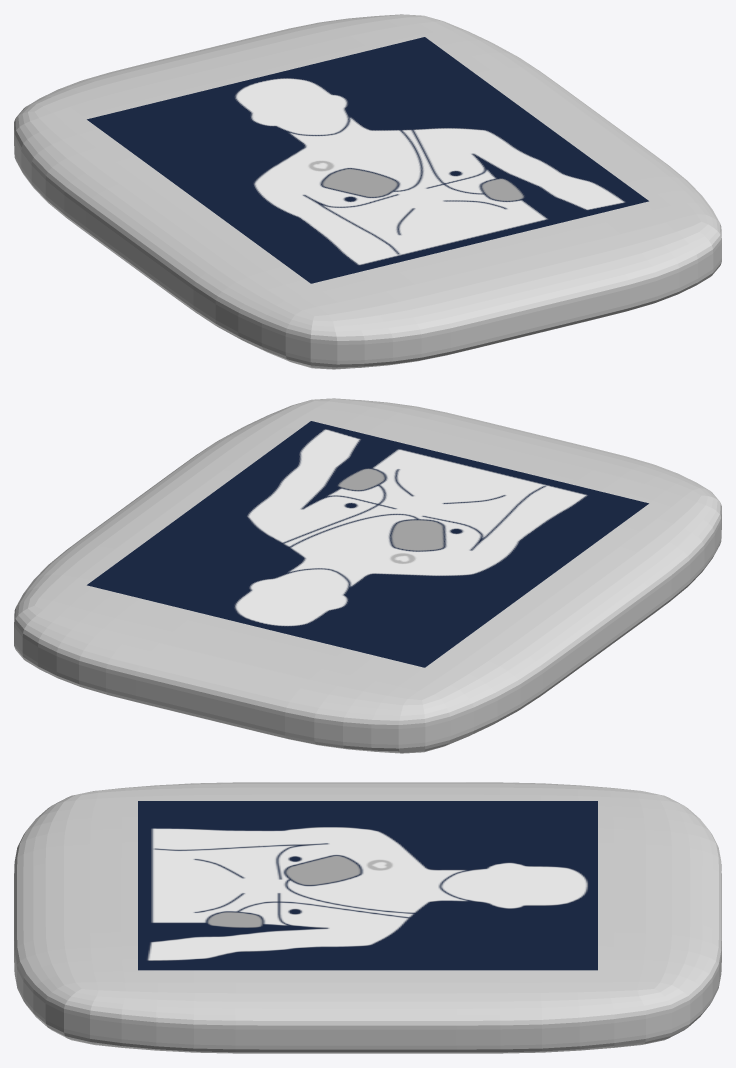
Rendered from ShockPadBlue.fbx.
3 renders of one model, top to bottom at view 1: azimuth 30°, elevation 25°; view 2: azimuth 150°, elevation 25°; view 3: azimuth 270°, elevation 25°, orthographic. The views are drawn at different scales.
Visible parts, largest first — view 1: Cube, PadPlacementBlue; view 2: Cube, PadPlacementBlue; view 3: Cube, PadPlacementBlue.
Boxes of the visible parts, x1,y1,x2,y2 form: Cube: (14, 14, 721, 369); PadPlacementBlue: (87, 37, 648, 283); Cube: (14, 398, 721, 753); PadPlacementBlue: (87, 421, 648, 667); Cube: (14, 782, 721, 1053); PadPlacementBlue: (138, 801, 597, 970).
Bounding box in the file's own units: 160 × 20.1 × 200.
2 materials, 1 textured.
